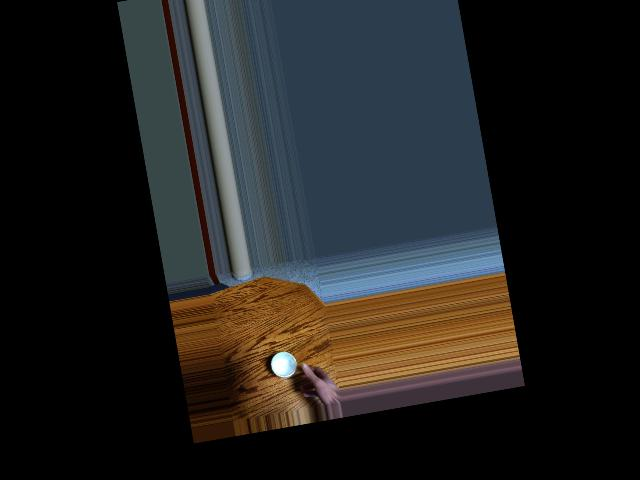cotage: (263, 343, 301, 386)
